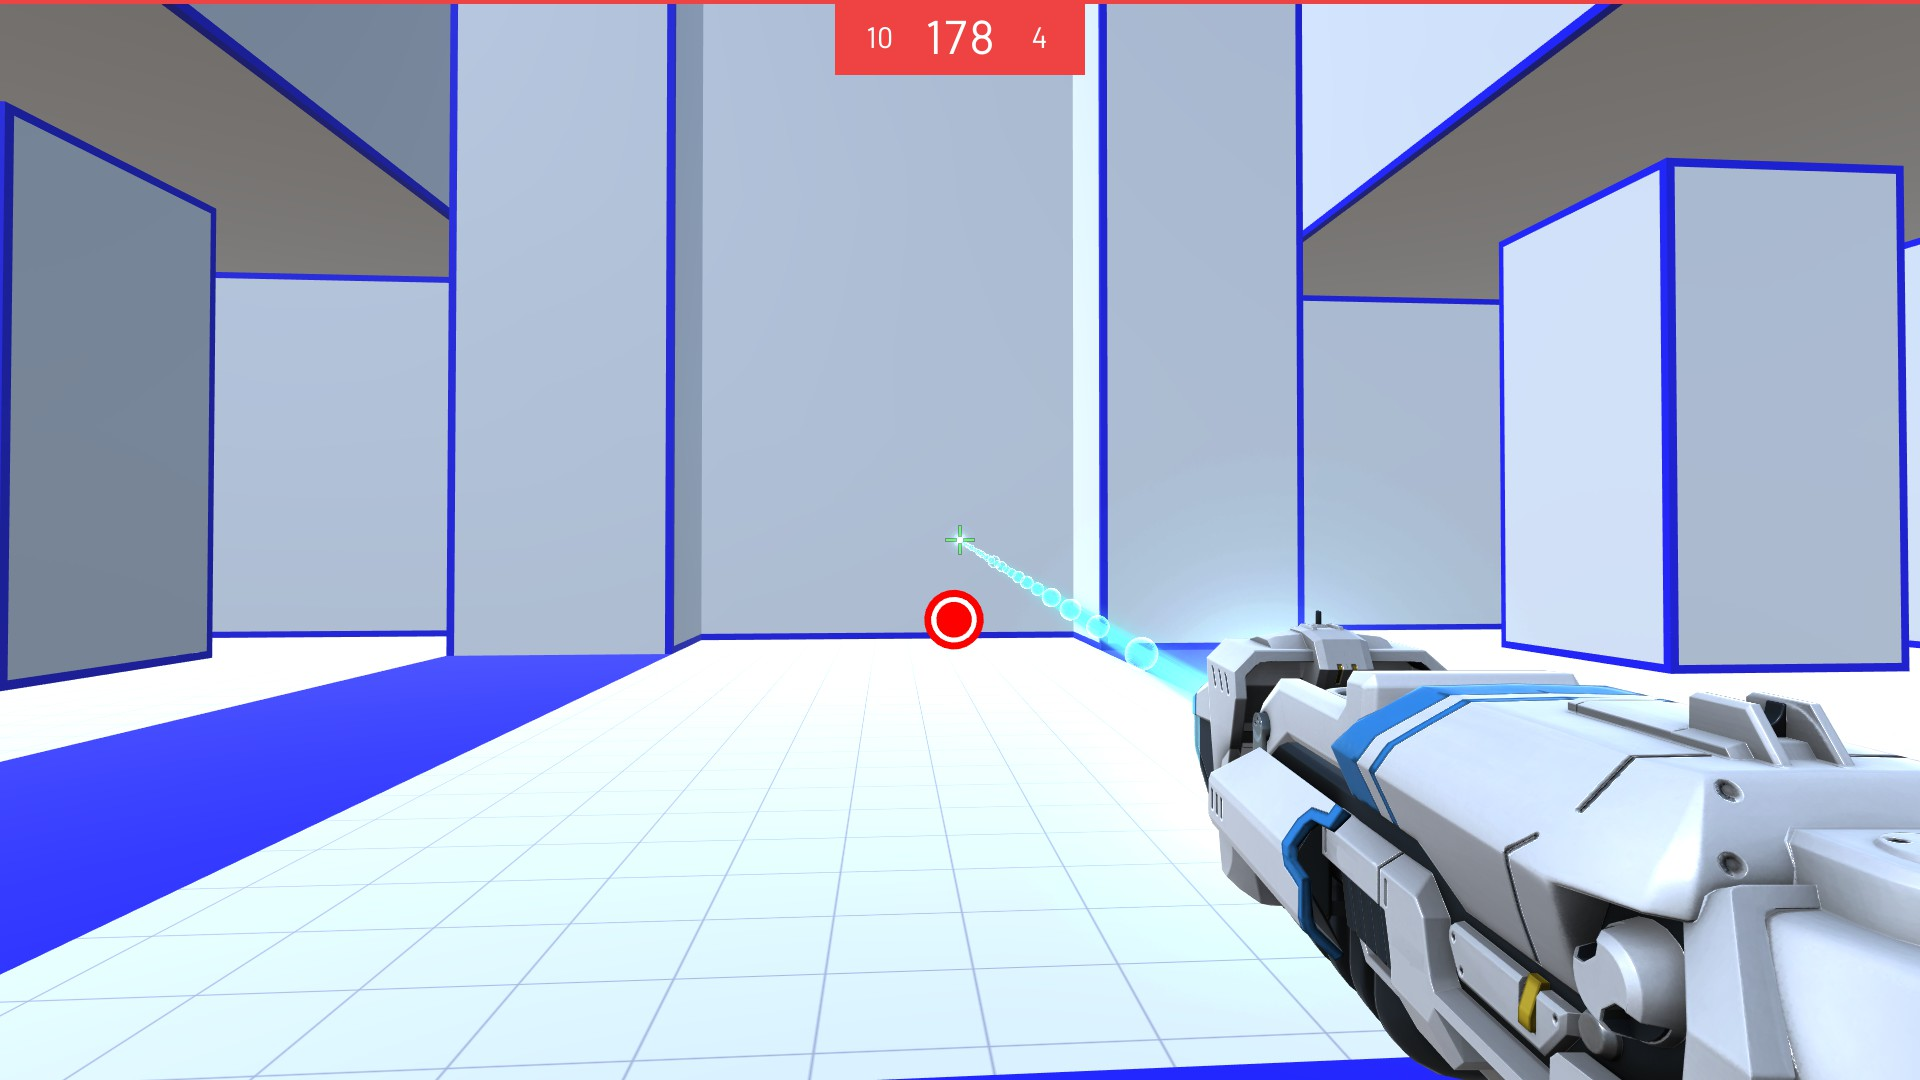target: (922, 588, 986, 654)
